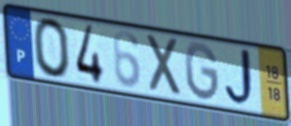4: (74, 22, 106, 88)
6: (111, 29, 143, 92)
G: (182, 40, 221, 104)
J: (223, 47, 259, 109)
O: (31, 15, 73, 81)
X: (144, 31, 184, 100)
